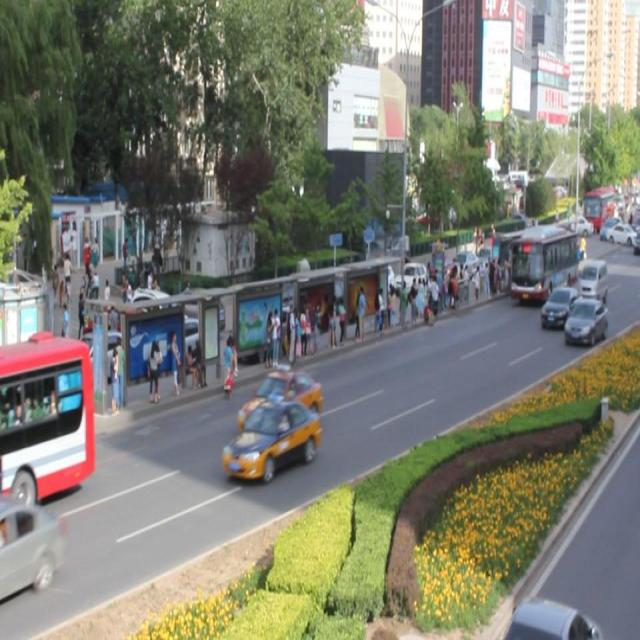car: (222, 398, 320, 481), (0, 494, 62, 604), (238, 367, 322, 435), (563, 297, 607, 345), (540, 287, 582, 327)
truck: (577, 260, 607, 304)
van: (0, 332, 96, 504), (509, 226, 577, 299)
